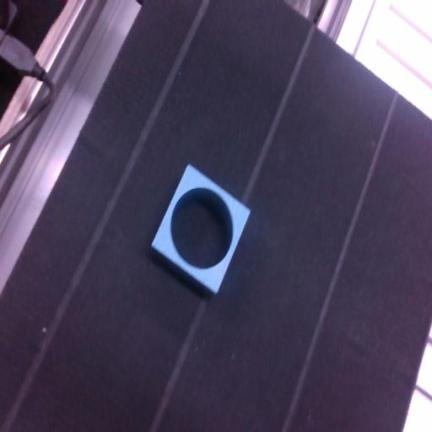square: (152, 165, 249, 293)
